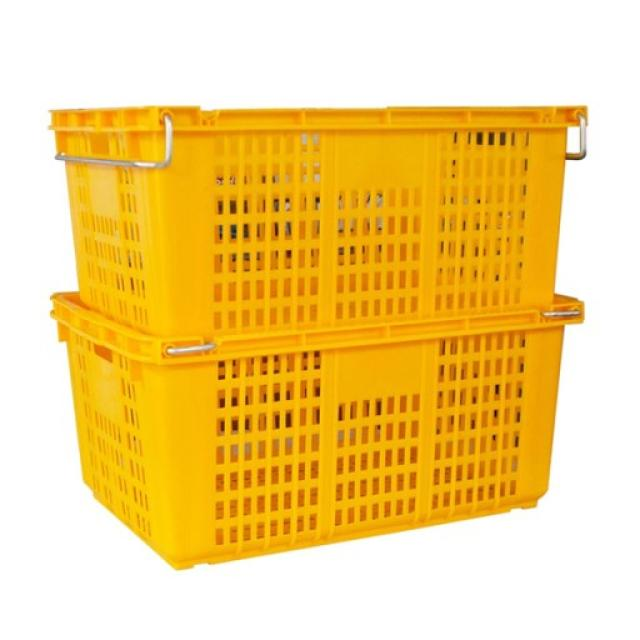basket: (50, 294, 584, 571), (53, 108, 588, 336)
